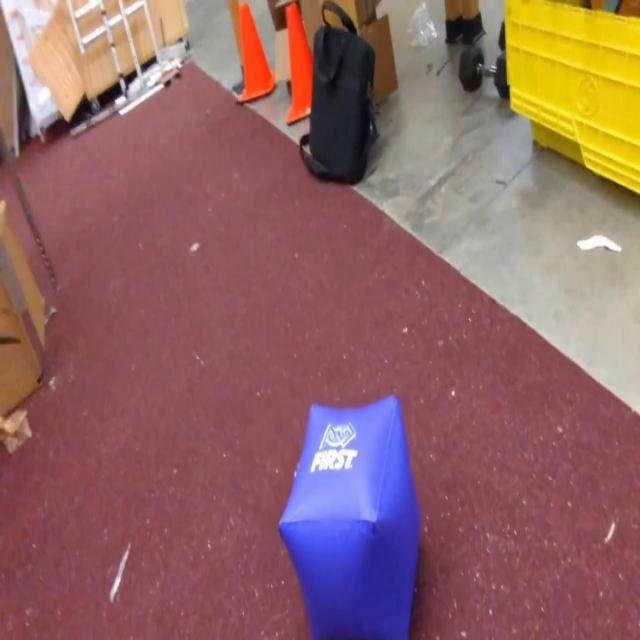frc_cube: (278, 397, 420, 640)
